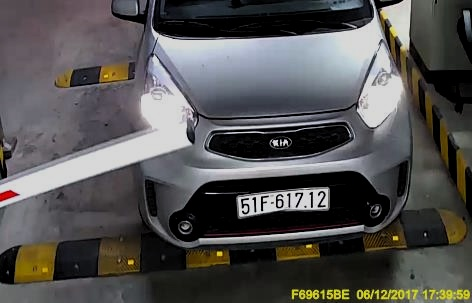plate: (236, 181, 331, 224)
